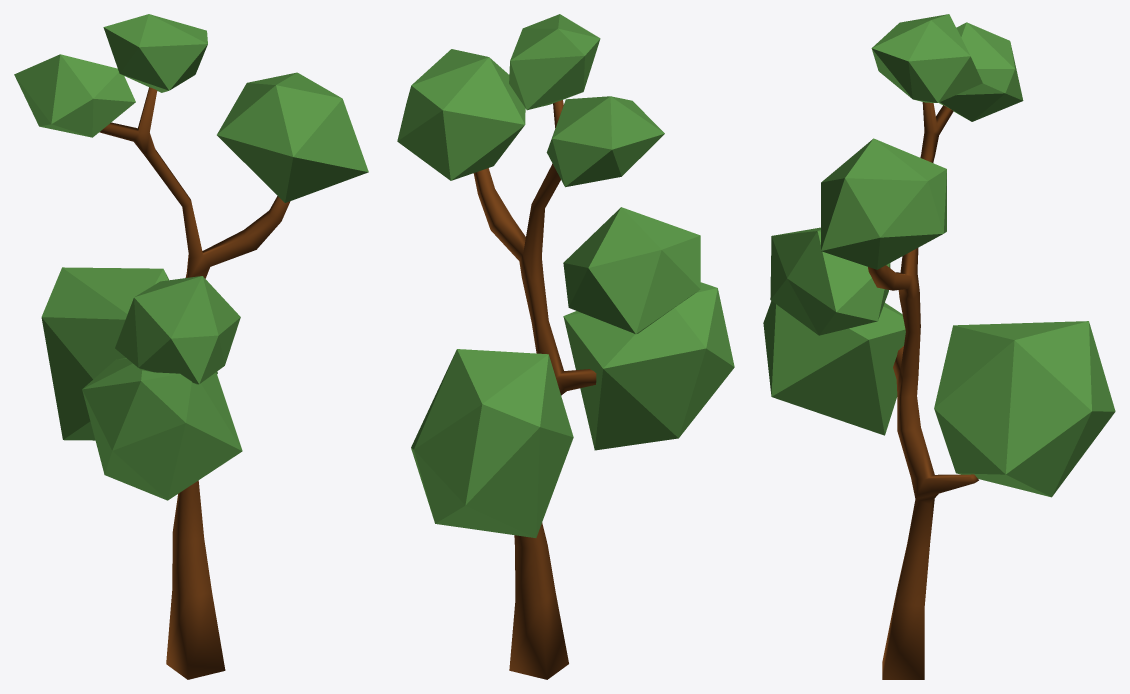
Rendered from Tree-4.fbx.
The picture shows the model from 3 angles, left to right: view 1: azimuth 30°, elevation 25°; view 2: azimuth 150°, elevation 25°; view 3: azimuth 270°, elevation 25°; orthographic projection. The views are drawn at different scales.
Parts seen in each view (by area): view 1: Tree-4; view 2: Tree-4; view 3: Tree-4.
Boxes of the visible parts, bbox=[...] form: Tree-4: bbox=[14, 14, 368, 679]; Tree-4: bbox=[397, 14, 734, 679]; Tree-4: bbox=[763, 14, 1115, 679].
Bounding box in the file's own units: 9.08 × 19.94 × 10.02.
